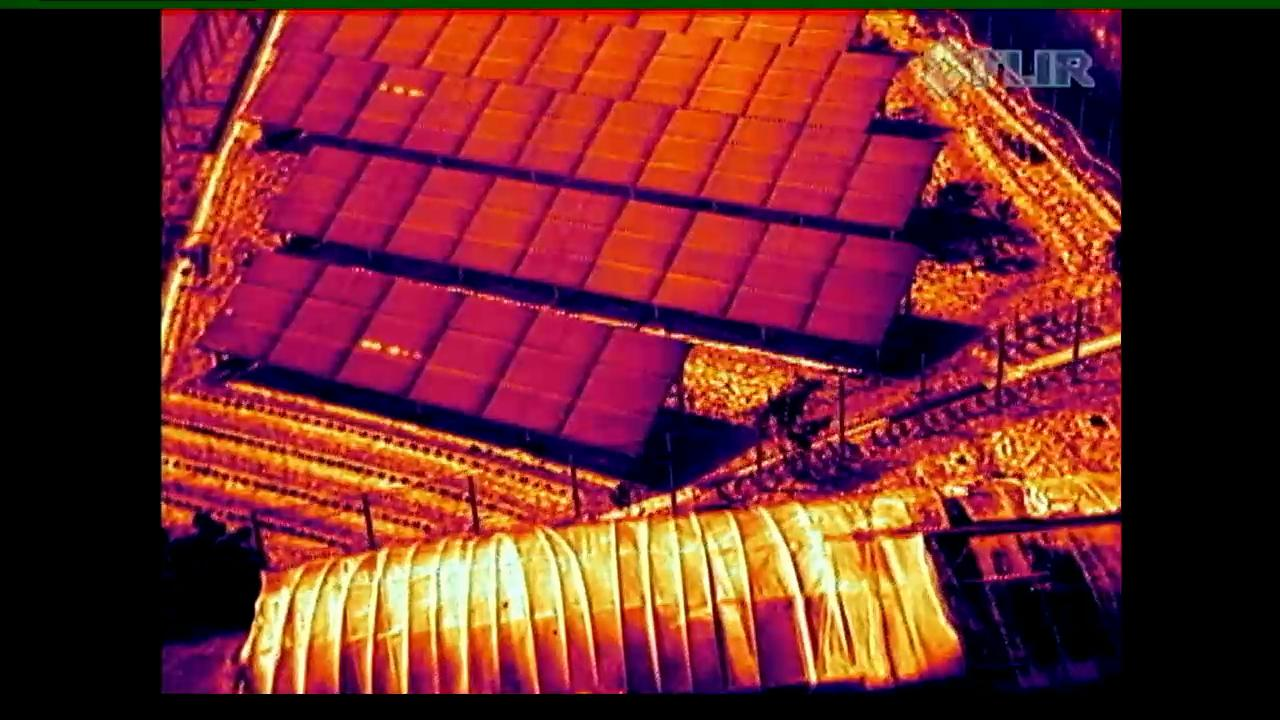hotspot: (333, 279, 459, 393), (344, 64, 439, 141)
